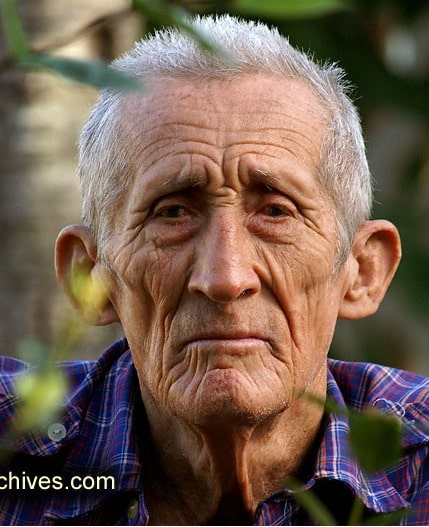without_mask: (122, 118, 331, 367)
